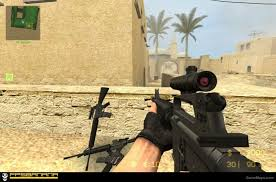gun: (150, 65, 267, 173), (84, 85, 110, 171), (60, 136, 139, 163)
